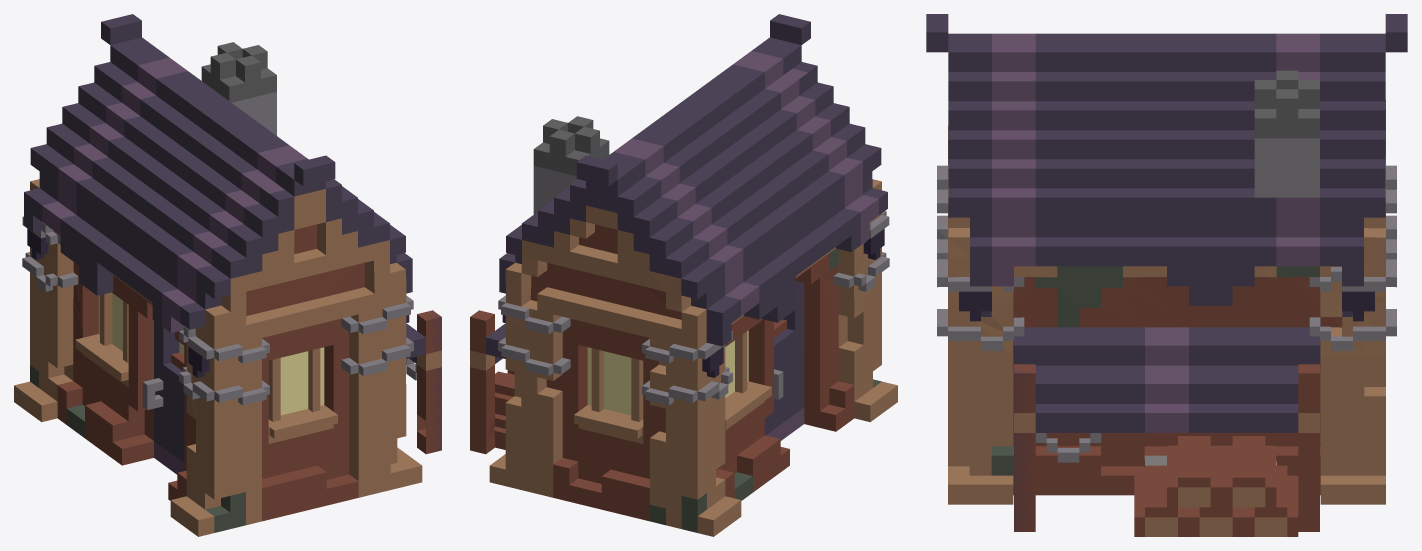
File: house_lv3.fbx
The picture shows the model from 3 angles, left to right: view 1: azimuth 30°, elevation 25°; view 2: azimuth 150°, elevation 25°; view 3: azimuth 270°, elevation 25°; orthographic projection. The views are drawn at different scales.
Visible parts, largest first — view 1: Cube.051; view 2: Cube.051; view 3: Cube.051.
Boxes of the visible parts, <box> form: Cube.051: <box>14,14,441,536</box>; Cube.051: <box>470,14,897,536</box>; Cube.051: <box>926,14,1407,536</box>.
Size of the model in its own units: 351 by 420 by 440.
